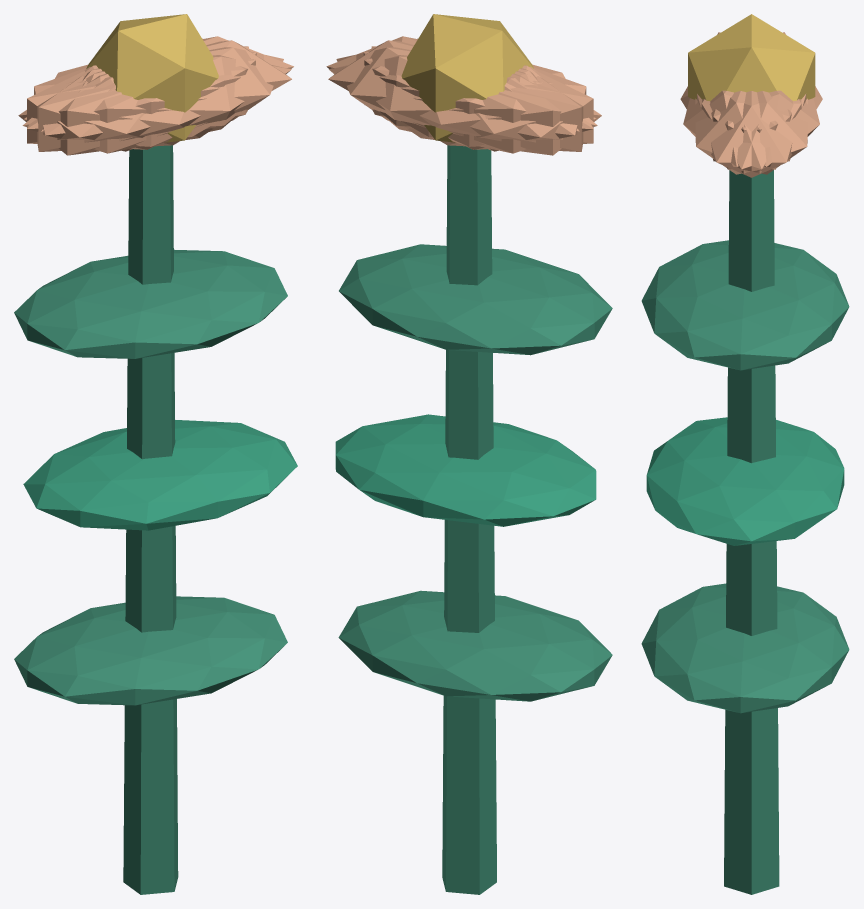
File: colocasia-esculenta.glb
3 views of the same model, side by side, from view 1: azimuth 30°, elevation 25°; view 2: azimuth 150°, elevation 25°; view 3: azimuth 270°, elevation 25° (orthographic).
Parts seen in each view (by area): view 1: stem, leaf2, leaf1, leaf0, center, petal1, petal6, petal2, petal5, petal7, petal0, petal4 (+2 smaller); view 2: stem, leaf2, leaf0, leaf1, center, petal8, petal3, petal7, petal4, petal2, petal0, petal5 (+2 smaller); view 3: stem, leaf2, leaf1, leaf0, center, petal0, petal5, petal4, petal8, petal1.
Boxes of the visible parts, left/top/right/bottom form: stem: left=123, top=145, right=178, bottom=894; leaf2: left=14, top=249, right=287, bottom=358; leaf1: left=23, top=420, right=297, bottom=530; leaf0: left=14, top=596, right=287, bottom=705; center: left=86, top=14, right=218, bottom=142; petal1: left=22, top=55, right=291, bottom=153; petal6: left=18, top=67, right=212, bottom=155; petal2: left=37, top=46, right=248, bottom=151; petal5: left=41, top=47, right=283, bottom=146; petal7: left=27, top=52, right=256, bottom=149; petal0: left=86, top=40, right=291, bottom=137; petal4: left=24, top=36, right=293, bottom=129; stem: left=442, top=145, right=496, bottom=894; leaf2: left=339, top=244, right=612, bottom=355; leaf0: left=338, top=590, right=612, bottom=701; leaf1: left=335, top=414, right=596, bottom=526; center: left=401, top=14, right=533, bottom=142; petal8: left=329, top=55, right=597, bottom=153; petal3: left=407, top=67, right=601, bottom=155; petal7: left=371, top=46, right=583, bottom=151; petal4: left=336, top=47, right=579, bottom=146; petal2: left=363, top=52, right=593, bottom=149; petal0: left=328, top=40, right=534, bottom=137; petal5: left=326, top=36, right=596, bottom=129; stem: left=724, top=170, right=779, bottom=894; leaf2: left=641, top=240, right=849, bottom=370; leaf1: left=646, top=417, right=844, bottom=545; leaf0: left=641, top=583, right=849, bottom=713; center: left=688, top=14, right=815, bottom=101; petal0: left=697, top=91, right=806, bottom=177; petal5: left=695, top=91, right=801, bottom=174; petal4: left=701, top=91, right=807, bottom=174; petal8: left=711, top=90, right=819, bottom=166; petal1: left=683, top=90, right=791, bottom=166.
Size of the model in its own units: 0.1452 by 0.4514 by 0.0999.
